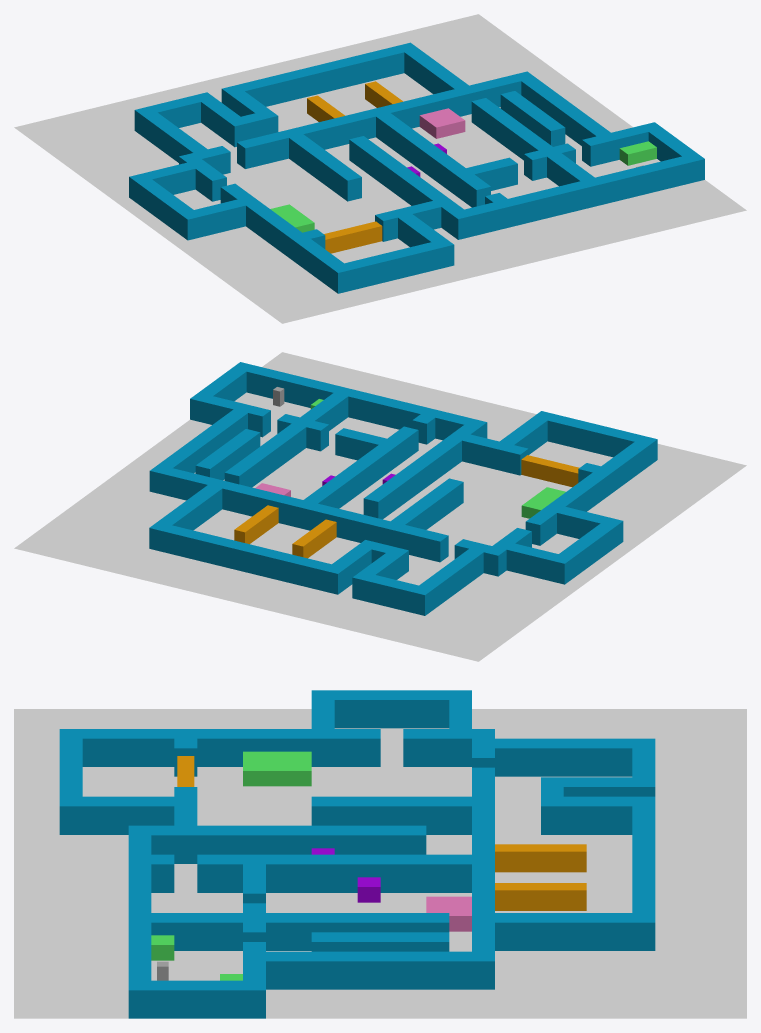
Rendered from graybox.fbx.
3 renders of one model, top to bottom at view 1: azimuth 30°, elevation 25°; view 2: azimuth 150°, elevation 25°; view 3: azimuth 270°, elevation 25°, orthographic. The views are drawn at different scales.
Visible parts, largest first — view 1: Walls, Ground1, Bookcase1, Distraction1, Furniture1, Bookcase3, Bookcase2, Furniture3; view 2: Walls, Ground1, Bookcase1, Bookcase2, Bookcase3, Furniture3; view 3: Ground1, Walls, Bookcase2, Bookcase3, Furniture3, Distraction1, Furniture2, Armor1, Bookcase1.
Boxes of the visible parts, left/top/right/bottom form: Walls: left=129, top=42, right=704, bottom=293; Ground1: left=14, top=14, right=746, bottom=323; Bookcase1: left=324, top=221, right=382, bottom=253; Distraction1: left=419, top=108, right=465, bottom=138; Furniture1: left=619, top=141, right=656, bottom=165; Bookcase3: left=365, top=81, right=402, bottom=107; Bookcase2: left=307, top=95, right=344, bottom=121; Furniture3: left=270, top=204, right=314, bottom=232; Walls: left=149, top=362, right=657, bottom=615; Ground1: left=14, top=352, right=746, bottom=661; Bookcase1: left=521, top=455, right=579, bottom=487; Bookcase2: left=292, top=519, right=336, bottom=558; Bookcase3: left=234, top=505, right=278, bottom=544; Furniture3: left=521, top=487, right=565, bottom=518; Ground1: left=14, top=709, right=746, bottom=1018; Walls: left=59, top=690, right=655, bottom=1018; Bookcase2: left=495, top=844, right=586, bottom=872; Bookcase3: left=495, top=883, right=586, bottom=910; Furniture3: left=243, top=751, right=311, bottom=786; Distraction1: left=426, top=896, right=471, bottom=931; Furniture2: left=151, top=935, right=174, bottom=960; Armor1: left=357, top=877, right=380, bottom=902; Bookcase1: left=177, top=756, right=194, bottom=786.
Bounding box in the file's own units: 32 × 1.37 × 32.
